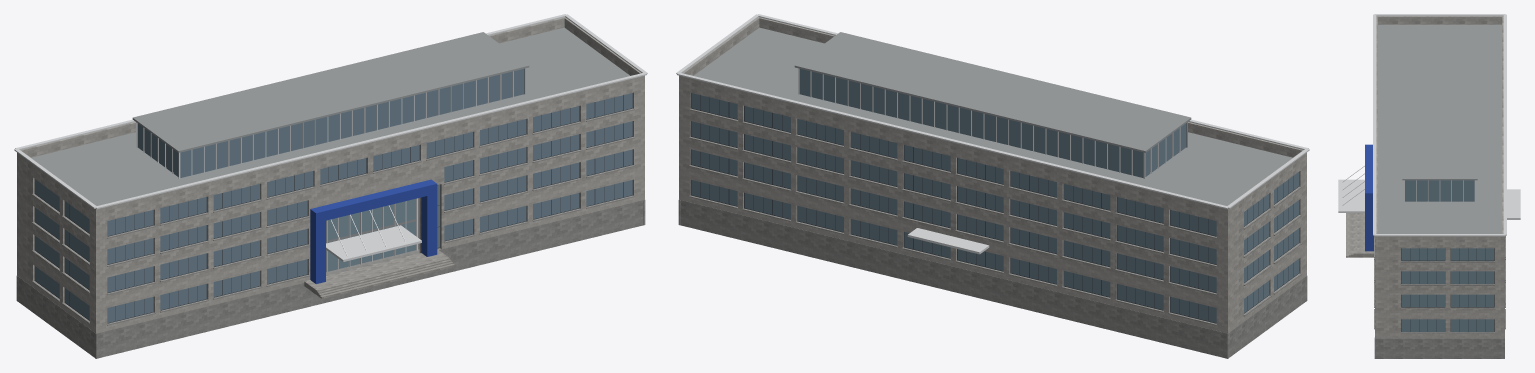
3 renders of one model, left to right at view 1: azimuth 30°, elevation 25°; view 2: azimuth 150°, elevation 25°; view 3: azimuth 270°, elevation 25°, orthographic. The views are drawn at different scales.
Visible parts, largest first — view 1: mainBldg__stone, mainBldg__glass, mainBldg__roof, mainBldg__stoneDark, mainBldg__canopy, mainBldg__frame, mainBldg__portalBlue, mainBldg__entranceSteps, mainBldg__glassBay, mainBldg__core; view 2: mainBldg__stone, mainBldg__glass, mainBldg__roof, mainBldg__stoneDark, mainBldg__frame, mainBldg__canopy, mainBldg__core; view 3: mainBldg__roof, mainBldg__stone, mainBldg__glass, mainBldg__canopy, mainBldg__stoneDark, mainBldg__frame, mainBldg__entranceSteps, mainBldg__portalBlue.
Boxes of the visible parts, <box> form: mainBldg__stone: <box>17,17,644,333</box>; mainBldg__glass: <box>35,68,632,323</box>; mainBldg__roof: <box>31,27,629,205</box>; mainBldg__stoneDark: <box>16,108,645,358</box>; mainBldg__canopy: <box>14,14,647,272</box>; mainBldg__frame: <box>34,93,633,323</box>; mainBldg__portalBlue: <box>310,179,437,283</box>; mainBldg__entranceSteps: <box>304,249,454,298</box>; mainBldg__glassBay: <box>326,199,415,271</box>; mainBldg__core: <box>144,72,512,271</box>; mainBldg__stone: <box>679,17,1306,333</box>; mainBldg__glass: <box>691,68,1298,323</box>; mainBldg__roof: <box>694,27,1292,205</box>; mainBldg__stoneDark: <box>678,108,1307,358</box>; mainBldg__frame: <box>690,93,1299,323</box>; mainBldg__canopy: <box>676,14,1309,254</box>; mainBldg__core: <box>811,72,1179,174</box>; mainBldg__roof: <box>1378,24,1501,233</box>; mainBldg__stone: <box>1375,16,1504,337</box>; mainBldg__glass: <box>1402,180,1493,331</box>; mainBldg__canopy: <box>1338,14,1520,236</box>; mainBldg__stoneDark: <box>1374,120,1505,358</box>; mainBldg__frame: <box>1401,248,1494,332</box>; mainBldg__entranceSteps: <box>1346,213,1373,257</box>; mainBldg__portalBlue: <box>1365,144,1373,251</box>.
Bounding box in the file's own units: 79.93 × 23.65 × 27.85.
Materials: 10 (3 with a texture image).
